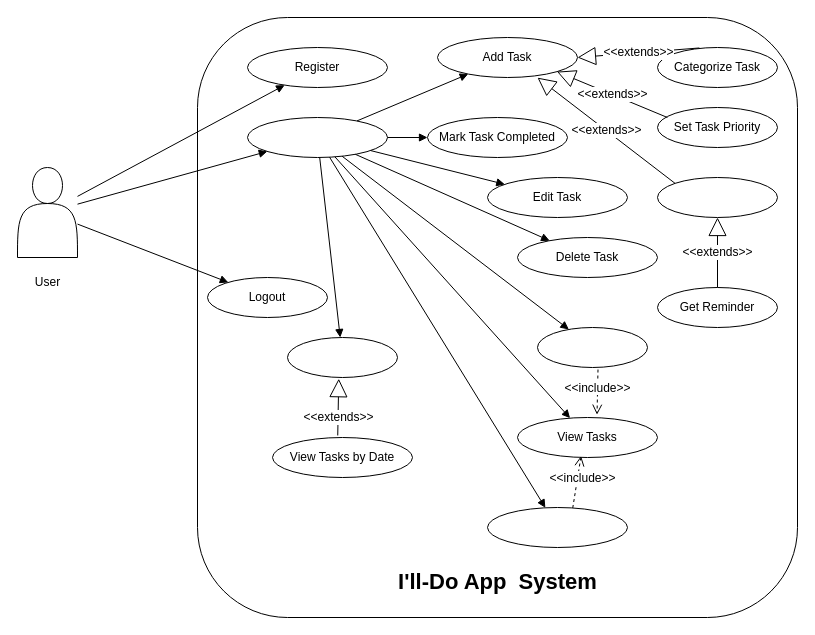
This 815x635 diagram has some shape labels left out. The centre of each missing label's shape, as x and y in pixels:
Filter Tasks: [592,347]
Login: [317,137]
Search Tasks: [557,527]
Set Deadline: [717,197]
View Calendar: [342,357]
